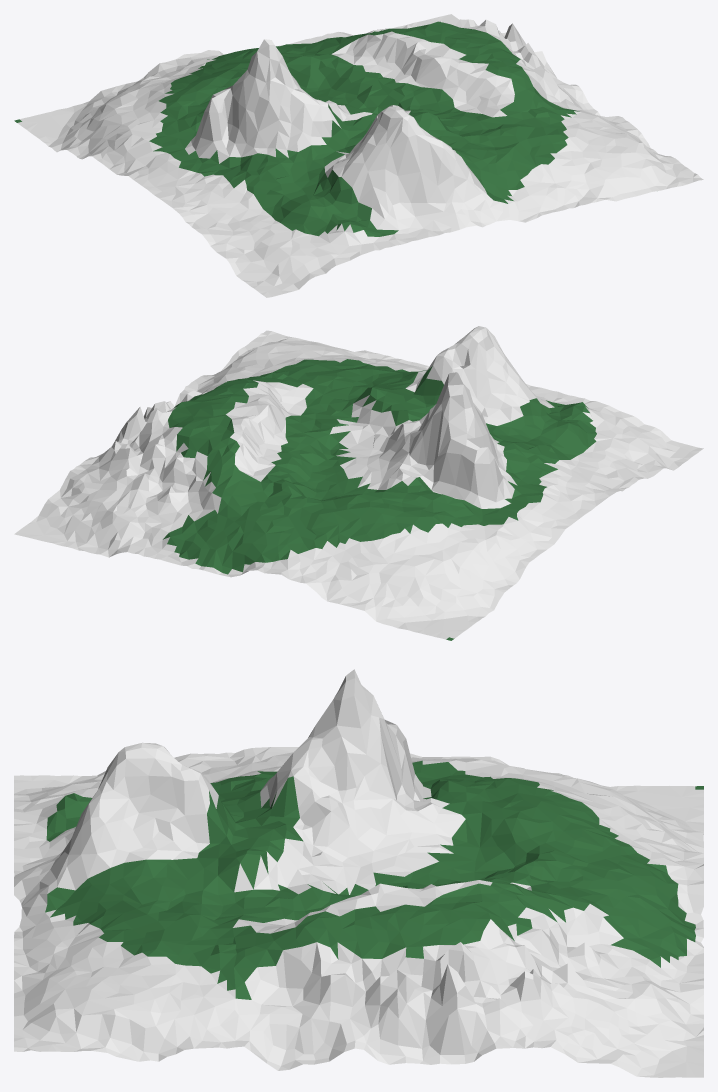
File: isle.fbx
The picture shows the model from 3 angles, top to bottom: view 1: azimuth 30°, elevation 25°; view 2: azimuth 150°, elevation 25°; view 3: azimuth 270°, elevation 25°; orthographic projection. The views are drawn at different scales.
Visible parts, largest first — view 1: Plane; view 2: Plane; view 3: Plane.
Boxes of the visible parts, x1,y1,x2,y2 form: Plane: (14,14,703,297); Plane: (14,326,703,640); Plane: (14,669,703,1077).
Size of the model in its own units: 24033 by 7653 by 24007.
